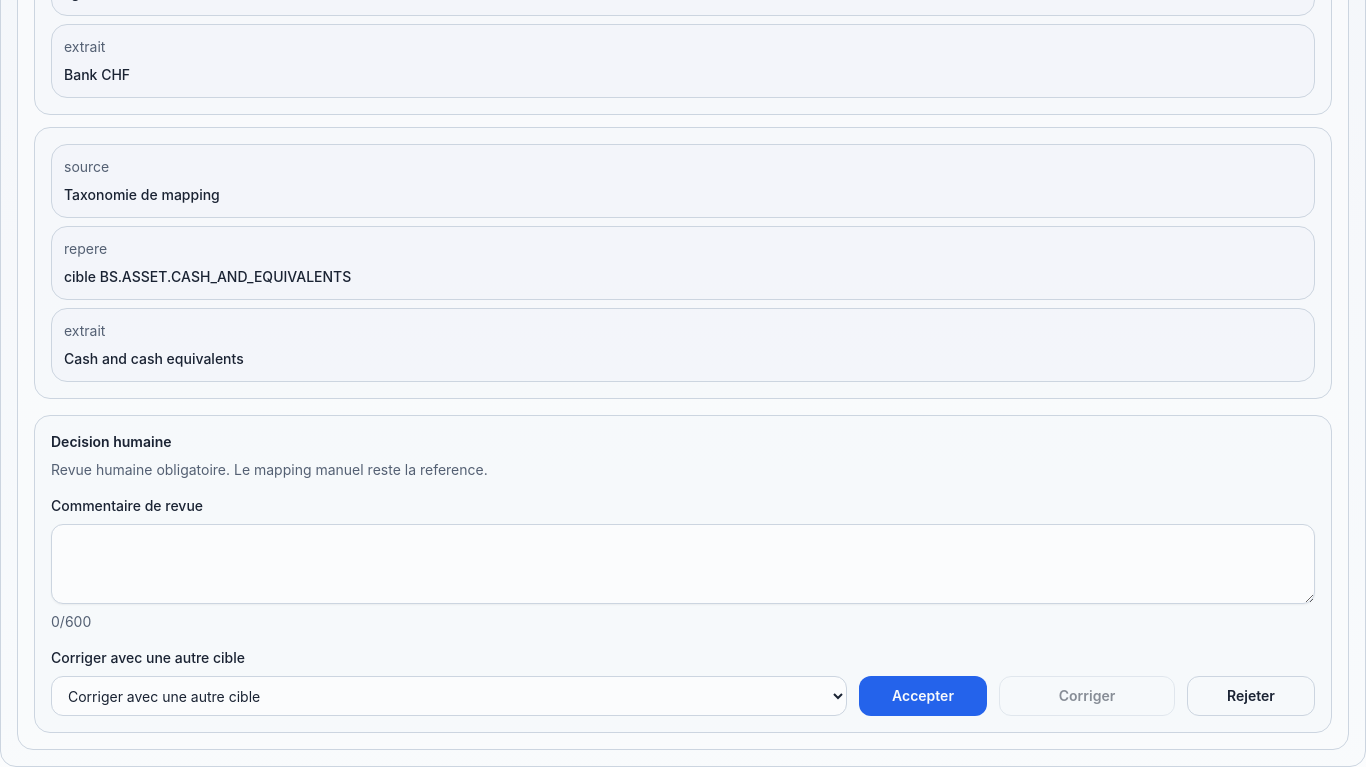
Test case: AiMappingSuggestionsPanel › keeps CORRECT accessible, blocks the suggested target, and sends another selectable target
(page scrolled)
Expected: the button "Corriger" is disabled, [999,676,1175,716]
Select "Cash and cash equivalents (BS.ASSET.CASH_AND_EQUIVALENTS)" in the dropdown labelled "Corriger avec une autre cible" at (449, 696), box [51,676,847,716]
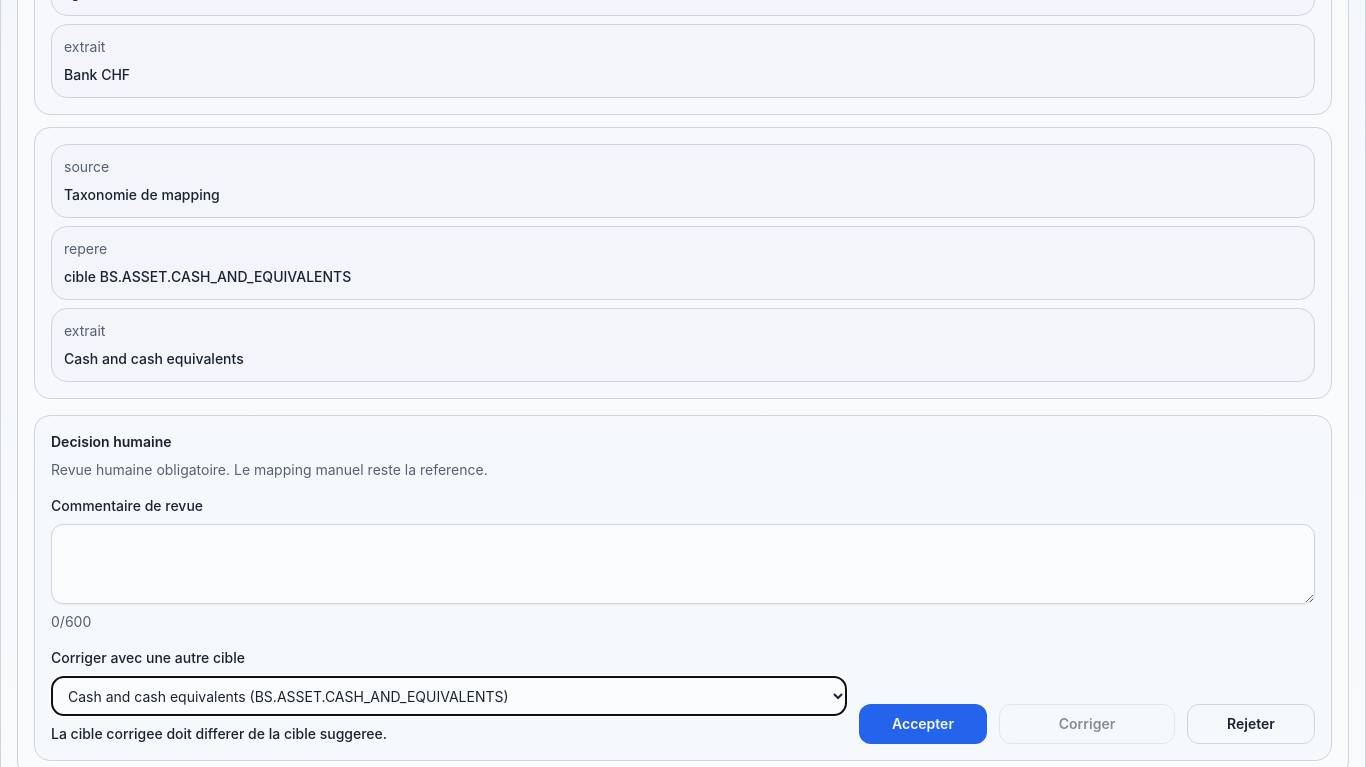
Expected: the button "Corriger" is disabled, [999,704,1175,744]
Now the text "La cible corrigee doit differer de la cible suggeree." is shown, box [51,725,387,742]
Select "Trade receivables (BS.ASSET.TRADE_RECEIVABLES)" in the dropdown labelled "Corriger avec une autre cible" at (449, 696), box [51,676,847,716]
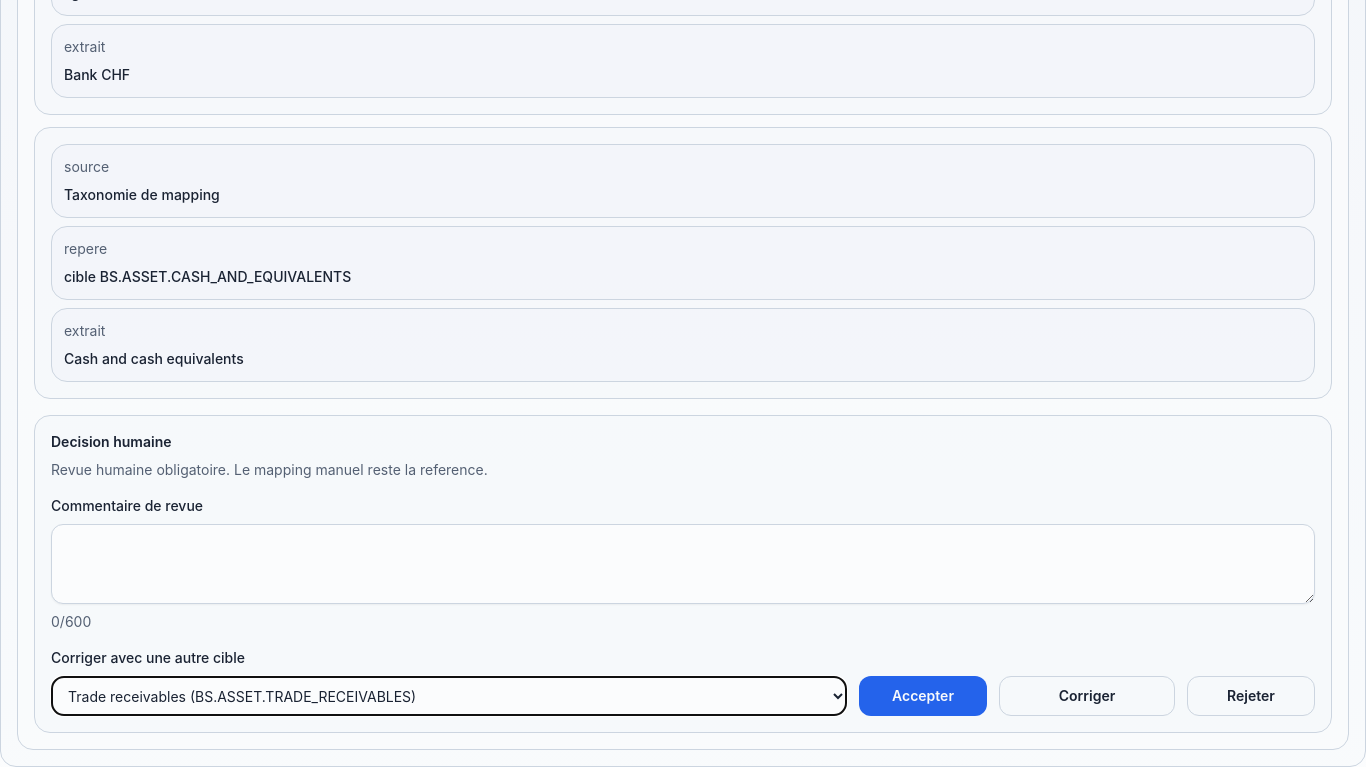
Now the button "Corriger" is enabled
Click the button "Corriger".
click(1087, 696)  # box [999,676,1175,716]
(page scrolled)
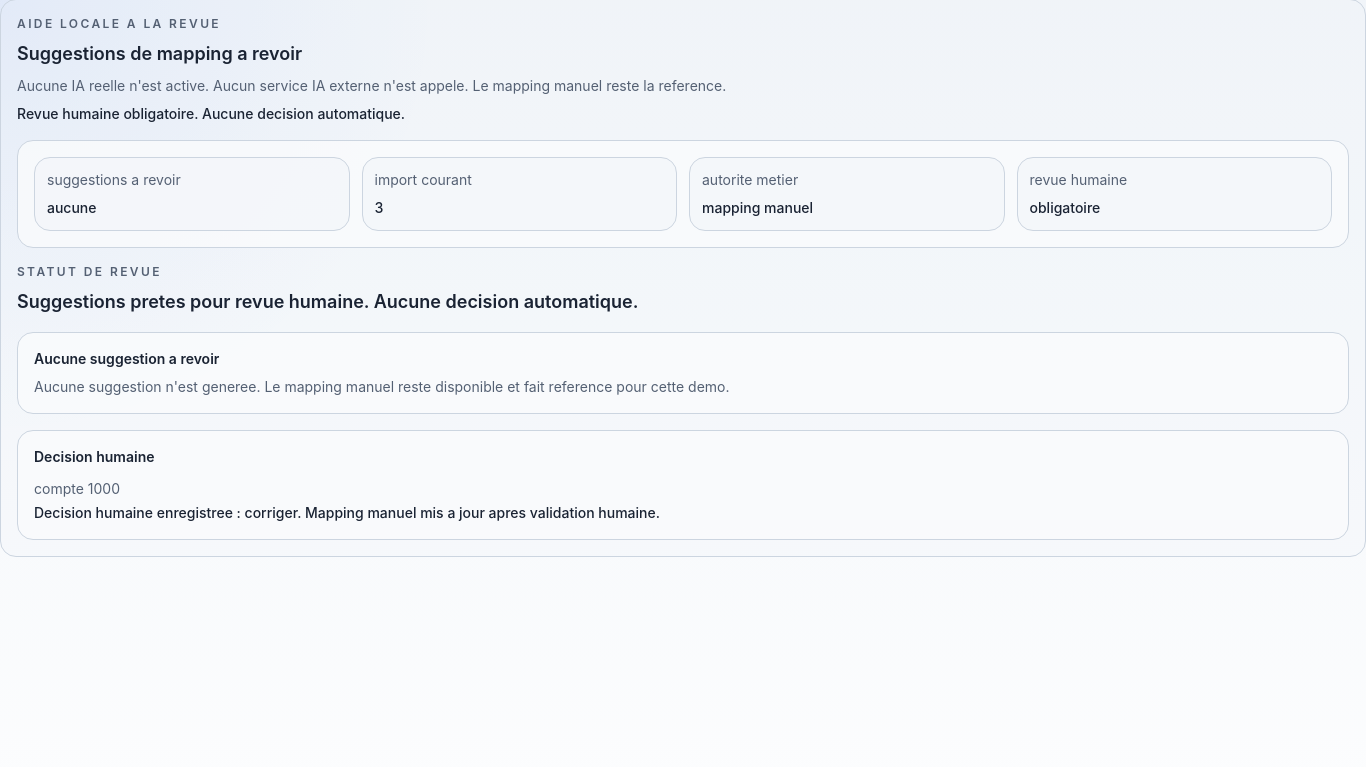
Now the text "Decision humaine enregistree : corriger" is shown, box [34,504,660,521]
